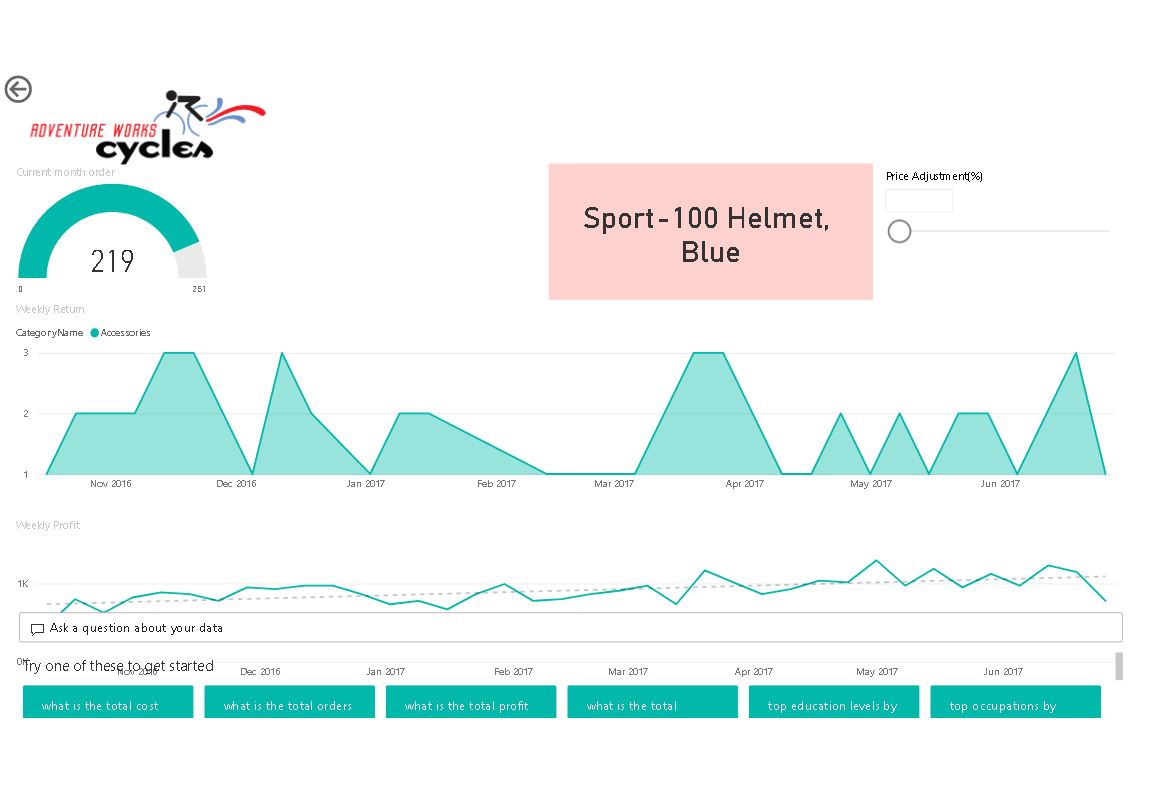

The dashboard page shown, as its layout file describes it:
{"tool":"powerbi","page":{"name":"Product Details","canvas":[1280,720],"ordinal":1},"visuals":[{"type":"image","box":[28.8,13.7,270.6,96.1],"z":0},{"type":"lineChart","title":"Weekly Profit","fields":{"Y":["AW_Sales.Total Profit"],"Category":["AW_Calendar_Lookup.Start of Week"]},"box":[11.9,490.3,1229.3,186.8],"z":1000},{"type":"stackedAreaChart","title":"Weekly Return","fields":{"Category":["AW_Calendar_Lookup.Start of Week"],"Y":["AW_Returns.Total Returns"],"Series":["AW_Product_Category_Lookup.CategoryName"]},"box":[11.9,252.3,1229.3,217.8],"z":2000},{"type":"gauge","title":"Current month order","fields":{"Y":["AW_Sales.Total Orders"],"MaxValue":["AW_Sales.Order Target"]},"box":[12.4,103,222.5,149.7],"z":3000},{"type":"card","fields":{"Values":["Min(AW_Product_Lookup.ProductName)"]},"box":[602.9,101.6,355.7,149.7],"z":3001},{"type":"actionButton","box":[0,0,100,40],"z":3002},{"type":"qnaVisual","box":[11.9,570,1229.3,150],"z":3003},{"type":"slicer","fields":{"Values":["Price Adjustment(%).Price Adjustment(%)"]},"box":[959,102,282,150],"z":3004}]}

Visuals, with their boxes on the page's 1280x720 design canvas (x1, y1, x2, y2). These are canvas units, not pixel positions in the 1165x788 screenshot, which may show the page scaled, cropped or inside an application window:
image: 29, 14, 299, 110
"Weekly Profit" lineChart: 12, 490, 1241, 677
"Weekly Return" stackedAreaChart: 12, 252, 1241, 470
"Current month order" gauge: 12, 103, 235, 253
card - Min(AW_Product_Lookup.ProductName): 603, 102, 959, 251
actionButton: 0, 0, 100, 40
qnaVisual: 12, 570, 1241, 720
slicer - Price Adjustment(%).Price Adjustment(%): 959, 102, 1241, 252
